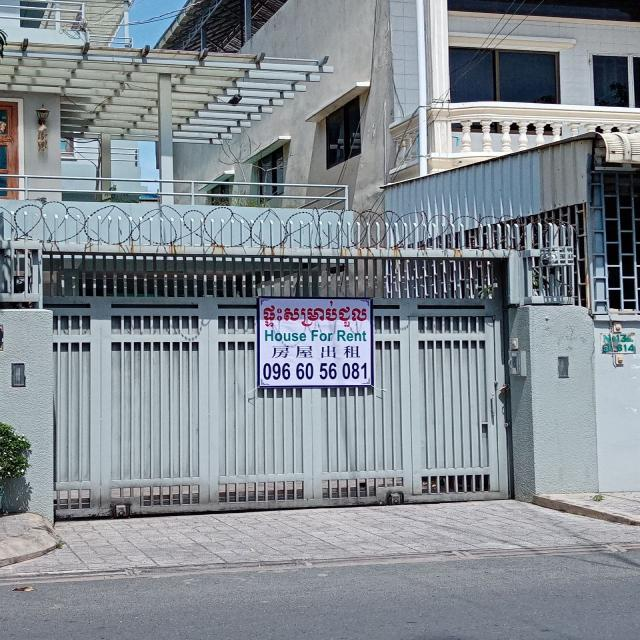Yolov11kh: (247, 300, 379, 332)
